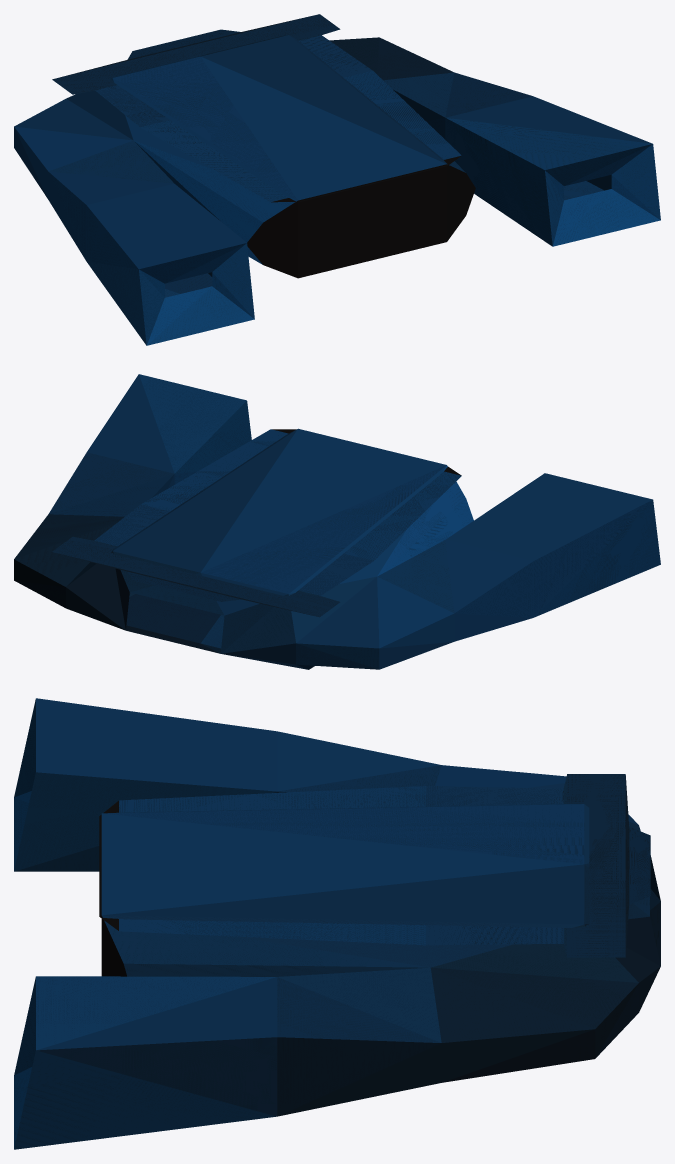
Rendered from wizard-robe.obj.
3 views of the same model, one above another, from view 1: azimuth 30°, elevation 25°; view 2: azimuth 150°, elevation 25°; view 3: azimuth 270°, elevation 25° (orthographic). The views are drawn at different scales.
Parts seen in each view (by area): view 1: Item Blue wizard robe 2026-09-24_17-59-59; view 2: Item Blue wizard robe 2026-09-24_17-59-59; view 3: Item Blue wizard robe 2026-09-24_17-59-59.
Boxes of the visible parts, x1=… form: Item Blue wizard robe 2026-09-24_17-59-59: x1=14, y1=14, x2=660, y2=345; Item Blue wizard robe 2026-09-24_17-59-59: x1=14, y1=374, x2=660, y2=669; Item Blue wizard robe 2026-09-24_17-59-59: x1=14, y1=698, x2=660, y2=1149.
Bounding box in the file's own units: 76 × 11 × 59.
